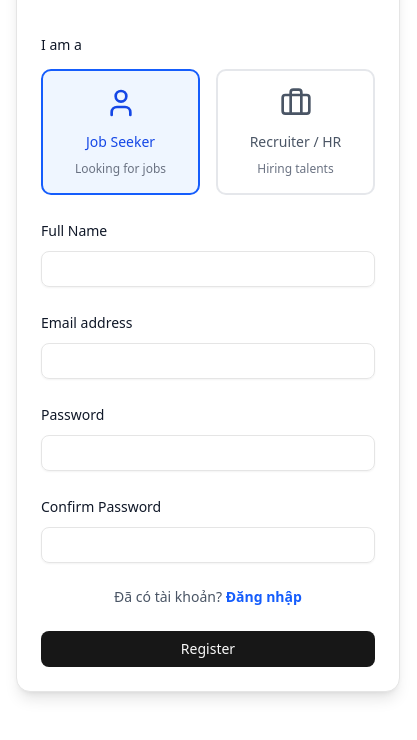
Test: RegisterForm › Form Validation › shows validation error for invalid email from server
(page scrolled)
Step 1. Click the button "Register" → (208, 649), box [41, 631, 375, 667]
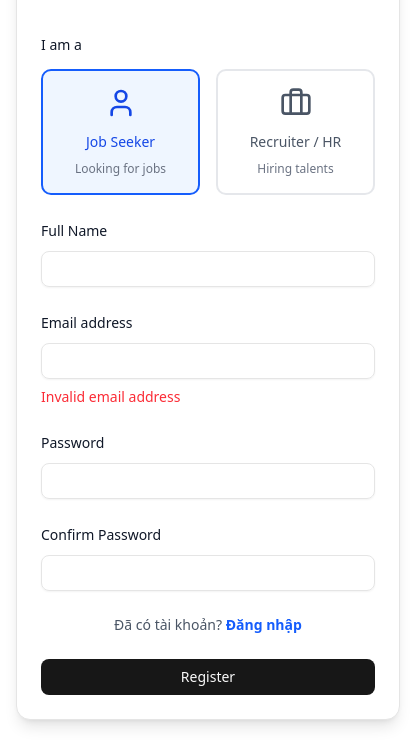
Check: the text "Invalid email address" is shown, box [41, 387, 180, 406]
